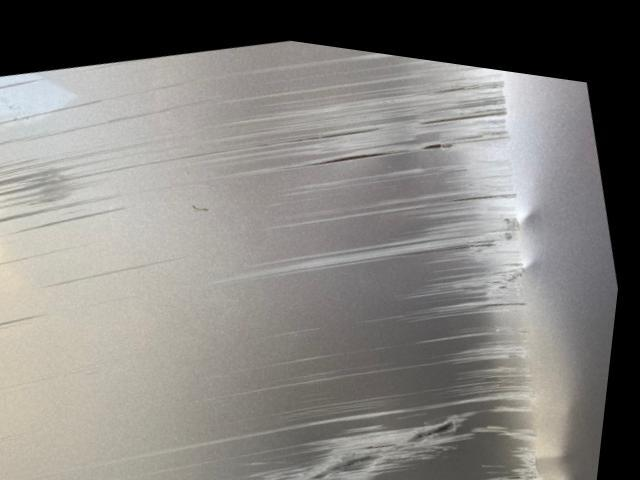scratch: (0, 32, 556, 480)
